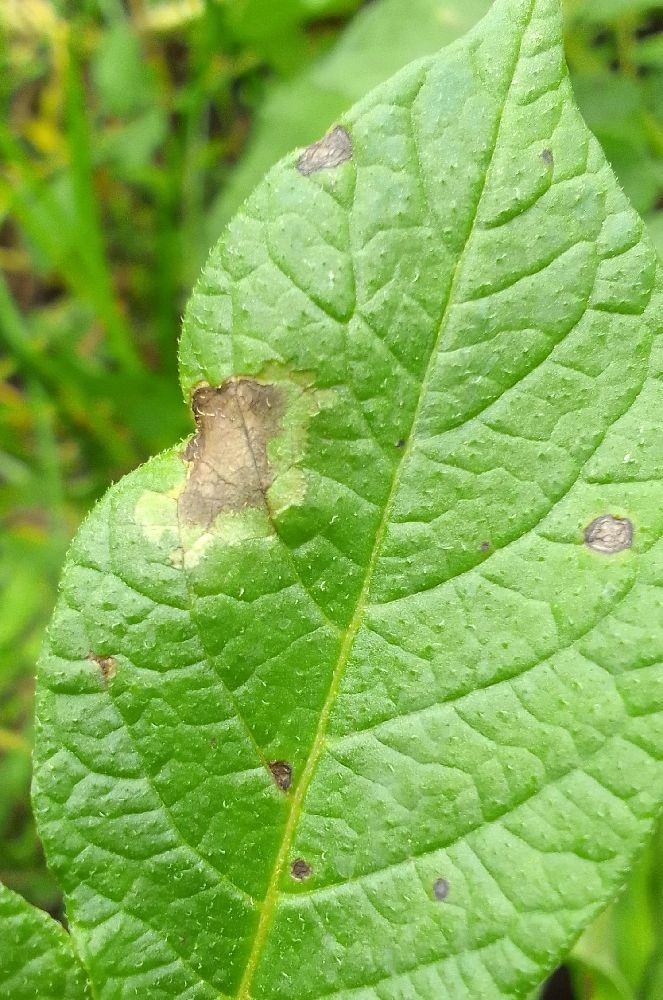late_blight: (68, 140, 186, 396), (166, 361, 299, 544), (0, 205, 83, 331), (192, 91, 261, 176)
